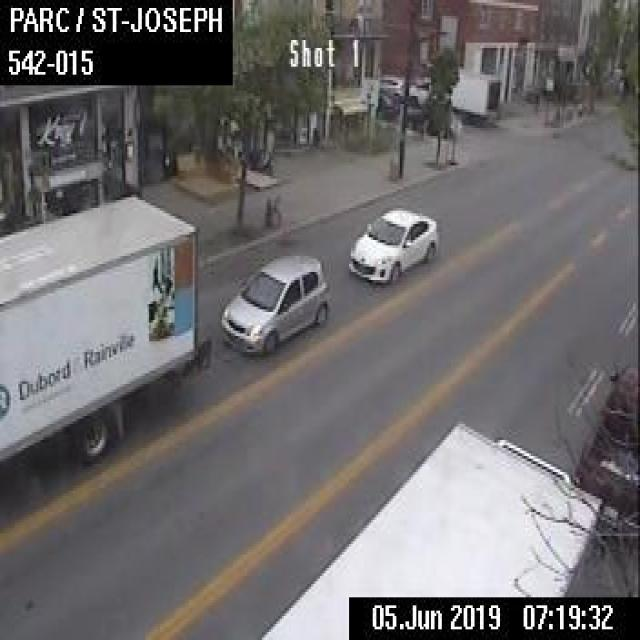vehicle: (258, 418, 604, 637), (0, 189, 200, 467), (218, 245, 333, 358), (573, 360, 638, 528), (346, 202, 436, 282), (406, 62, 498, 125), (402, 88, 460, 137), (378, 68, 407, 100), (377, 88, 398, 119)
